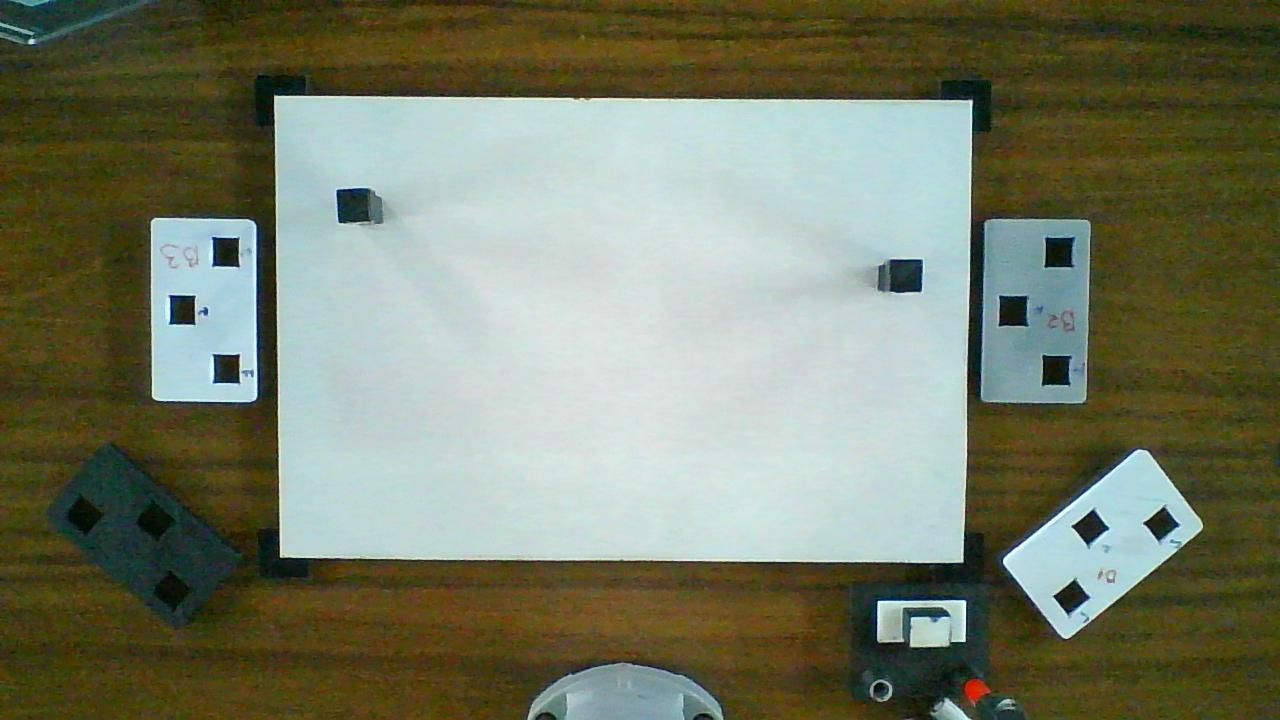peca_preta: (337, 190, 370, 222), (893, 260, 923, 292)
